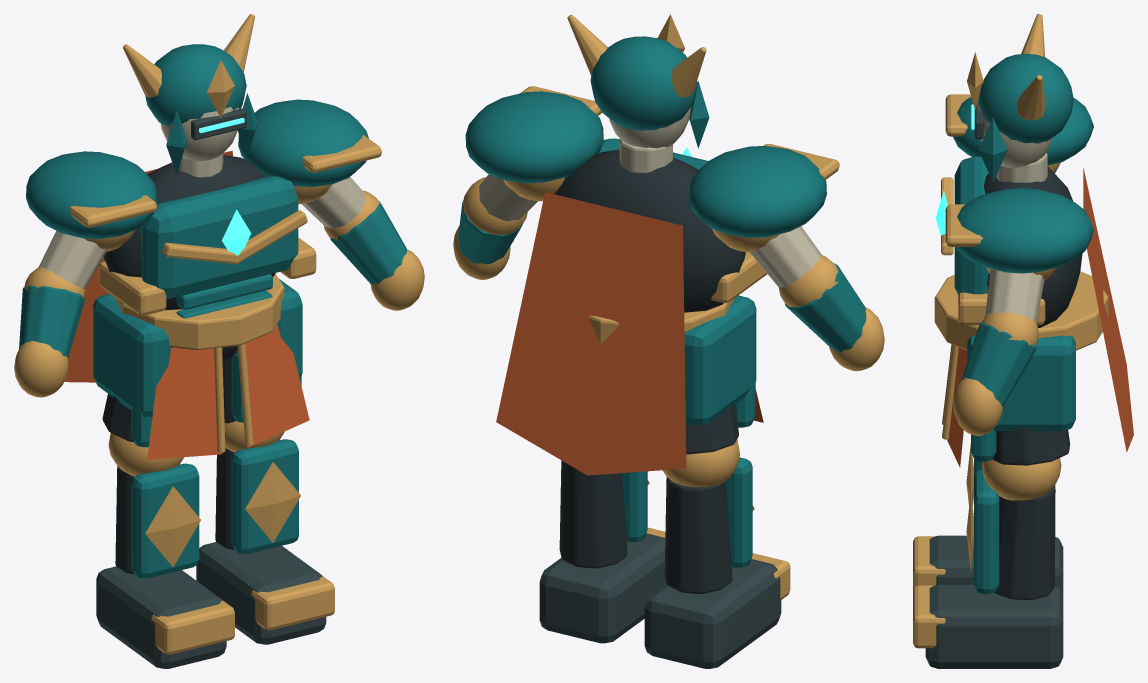
File: hero.glb
3 views of the same model, side by side, from view 1: azimuth 30°, elevation 25°; view 2: azimuth 150°, elevation 25°; view 3: azimuth 270°, elevation 25° (orthographic). The views are drawn at different scales.
Visible parts, largest first — view 1: hero__Enamel, hero__Bronze, hero__Obsidian, hero__Cloth, hero__Leather, hero__Stone_flesh, hero__Divine_fire; view 2: hero__Enamel, hero__Cloth, hero__Leather, hero__Obsidian, hero__Bronze, hero__Stone_flesh; view 3: hero__Enamel, hero__Bronze, hero__Obsidian, hero__Leather, hero__Cloth, hero__Stone_flesh, hero__Divine_fire.
Boxes of the visible parts, x1,y1,x2,y2 form: hero__Enamel: (19,44,407,578); hero__Bronze: (14,14,424,654); hero__Obsidian: (96,108,326,668); hero__Cloth: (64,150,309,459); hero__Leather: (102,155,275,573); hero__Stone_flesh: (39,107,365,289); hero__Divine_fire: (199,118,251,255); hero__Enamel: (458,36,866,567); hero__Cloth: (496,192,763,475); hero__Leather: (555,149,745,593); hero__Obsidian: (539,81,781,668); hero__Bronze: (453,14,884,599); hero__Stone_flesh: (479,106,822,287); hero__Enamel: (953,53,1093,593); hero__Bronze: (913,14,1108,648); hero__Obsidian: (925,101,1063,668); hero__Leather: (984,166,1082,599); hero__Cloth: (947,167,1133,467); hero__Stone_flesh: (978,105,1052,322); hero__Divine_fire: (935,104,974,235).
Bounding box in the file's own units: 1.3 × 1.8 × 0.614.
